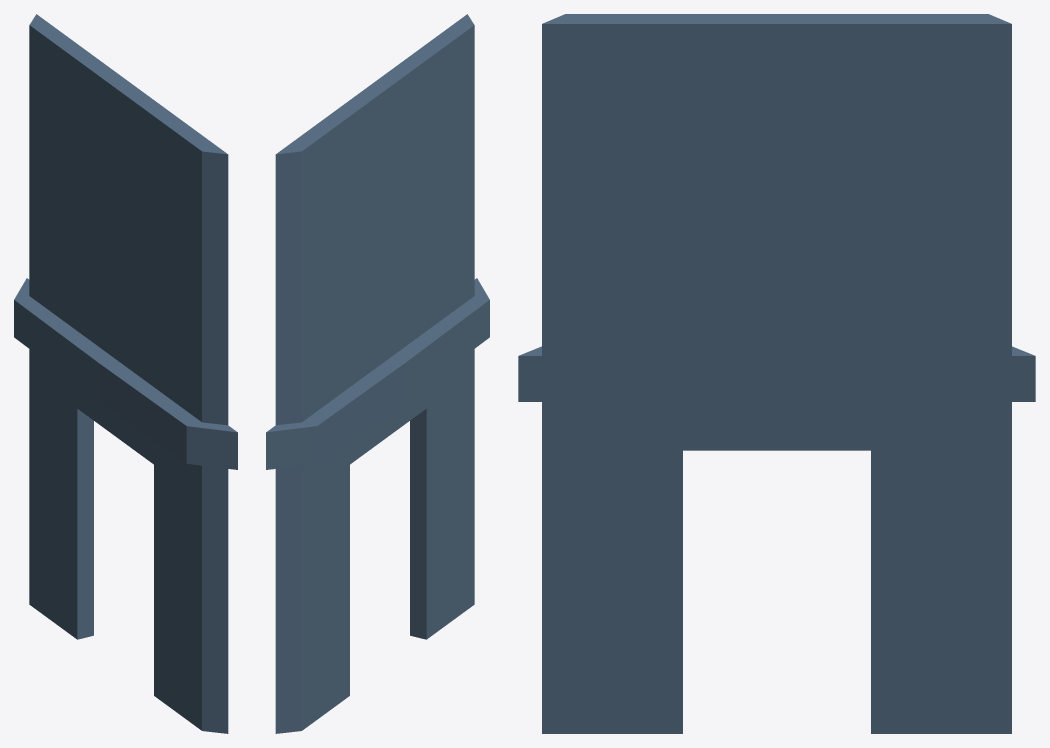
Rendered from WallDoor.FBX.
3 views of the same model, side by side, from view 1: azimuth 30°, elevation 25°; view 2: azimuth 150°, elevation 25°; view 3: azimuth 270°, elevation 25° (orthographic). The views are drawn at different scales.
Parts seen in each view (by area): view 1: WallDoor, Object005; view 2: WallDoor, Object005; view 3: WallDoor, Object005.
Part boxes in pixels (x1=…): WallDoor: x1=29, y1=14, x2=228, y2=733; Object005: x1=14, y1=278, x2=237, y2=469; WallDoor: x1=275, y1=14, x2=474, y2=733; Object005: x1=266, y1=278, x2=489, y2=469; WallDoor: x1=542, y1=14, x2=1011, y2=733; Object005: x1=518, y1=346, x2=1035, y2=401.
Bounding box in the file's own units: 11.81 × 197 × 130.
